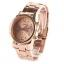watch: (9, 11, 39, 47)
